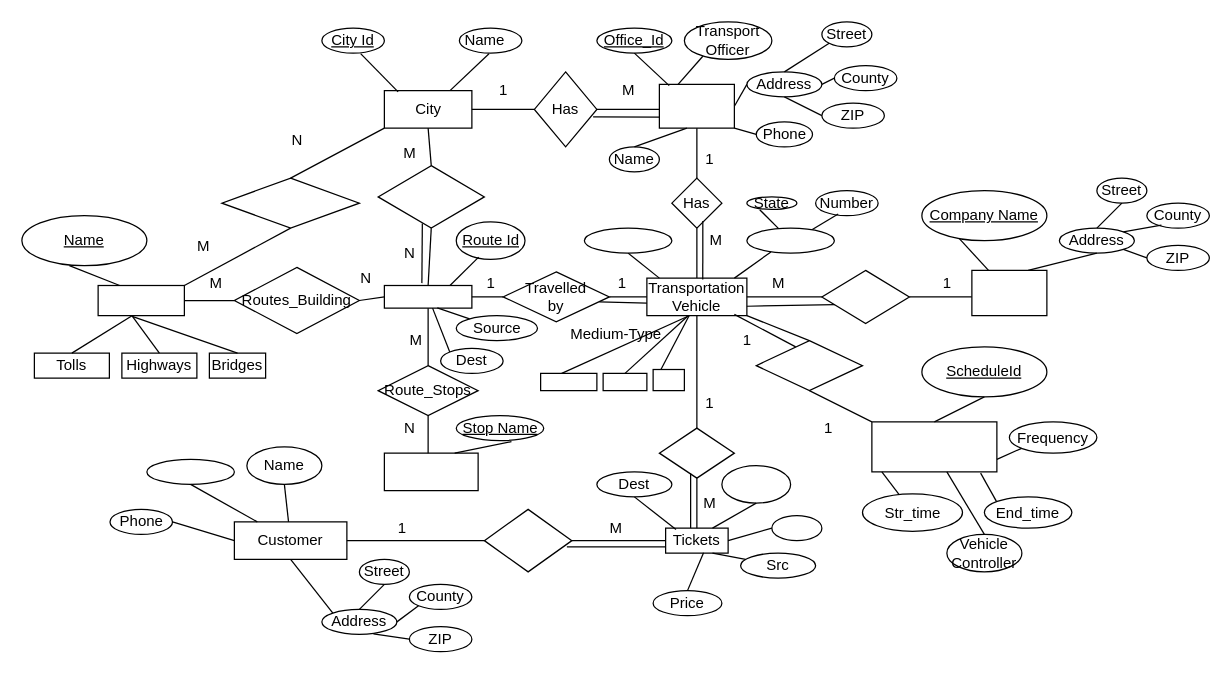
Some shapes in this 1231 by 674 pixel diagram are drawn without their labels. The centre of each missing label's shape, as x and y in pixels:
Air: (668,379)
Assigned: (808,365)
Buys: (527,540)
City_Routes: (430,196)
City_Strucutures: (290,202)
Owned By: (865,296)
Owner/ Company: (1009,292)
Provides: (696,452)
Qty: (796,527)
Registration: (790,240)
Road: (568,381)
Route: (427,296)
SSN: (190,471)
Structures/ Building: (140,300)
Ticket Id: (756,483)
Transport Office: (696,105)
Transport Stops: (430,471)
Vehicle Id: (627,240)
Vehicle Schedule: (934,446)
Water: (624,381)
